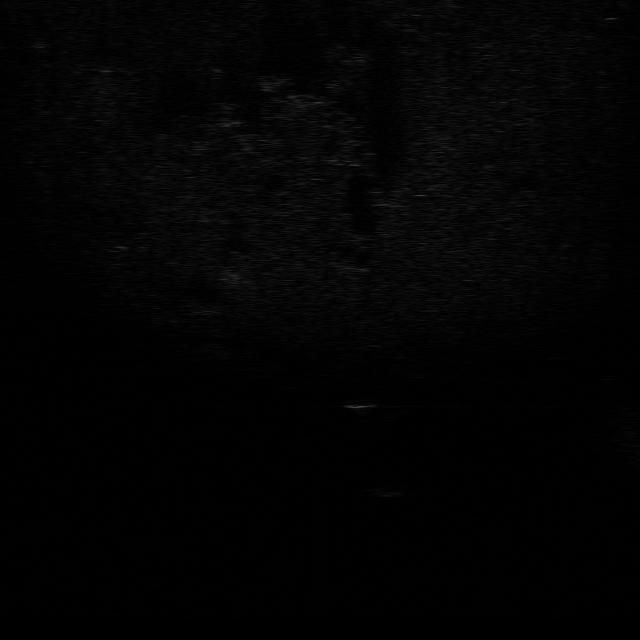cube: (364, 484, 410, 498)
square cage: (340, 396, 374, 414)
